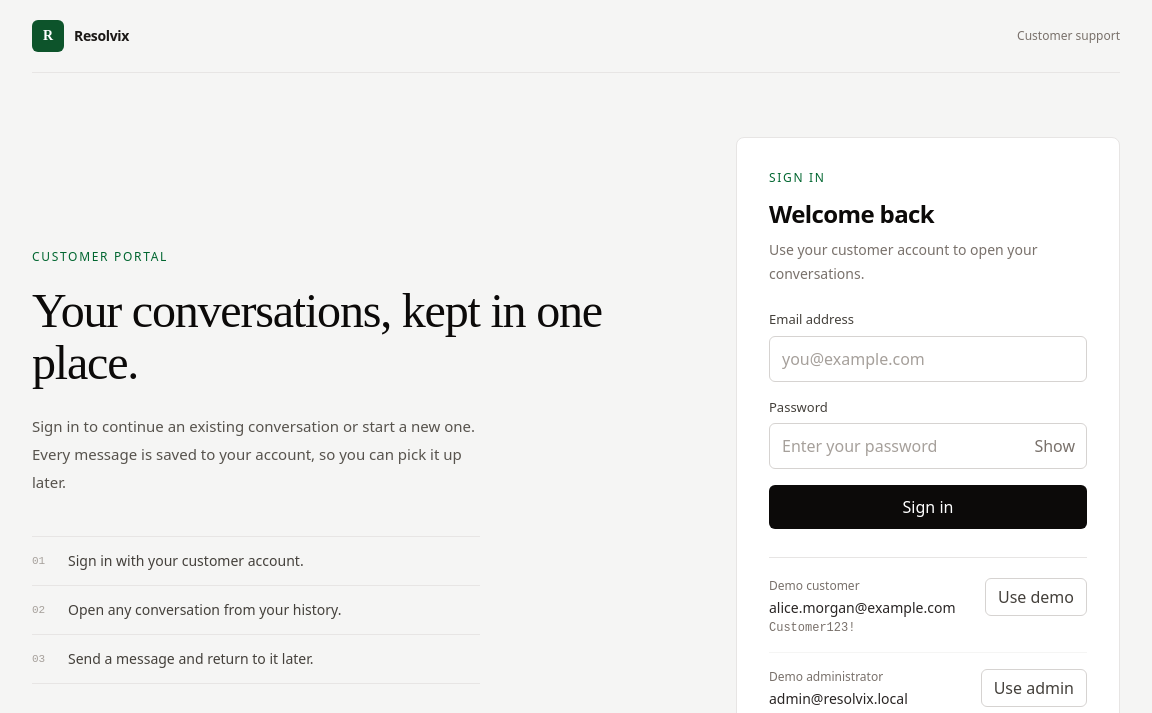
Login › rejects an empty form before calling the API
Step 1. Click the button "Sign in" → (928, 507), box top-left (769, 485), bottom-right (1087, 529)
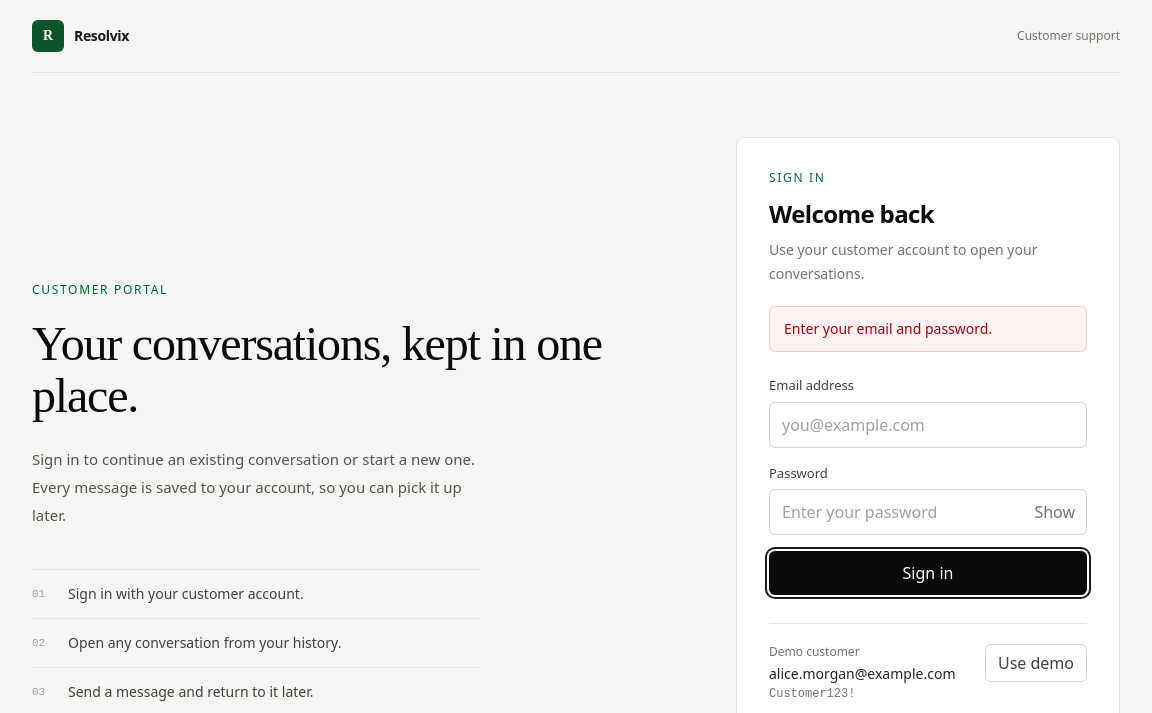
Expected: the message reads "Enter your email and password.", top-left (784, 319), bottom-right (992, 338)
